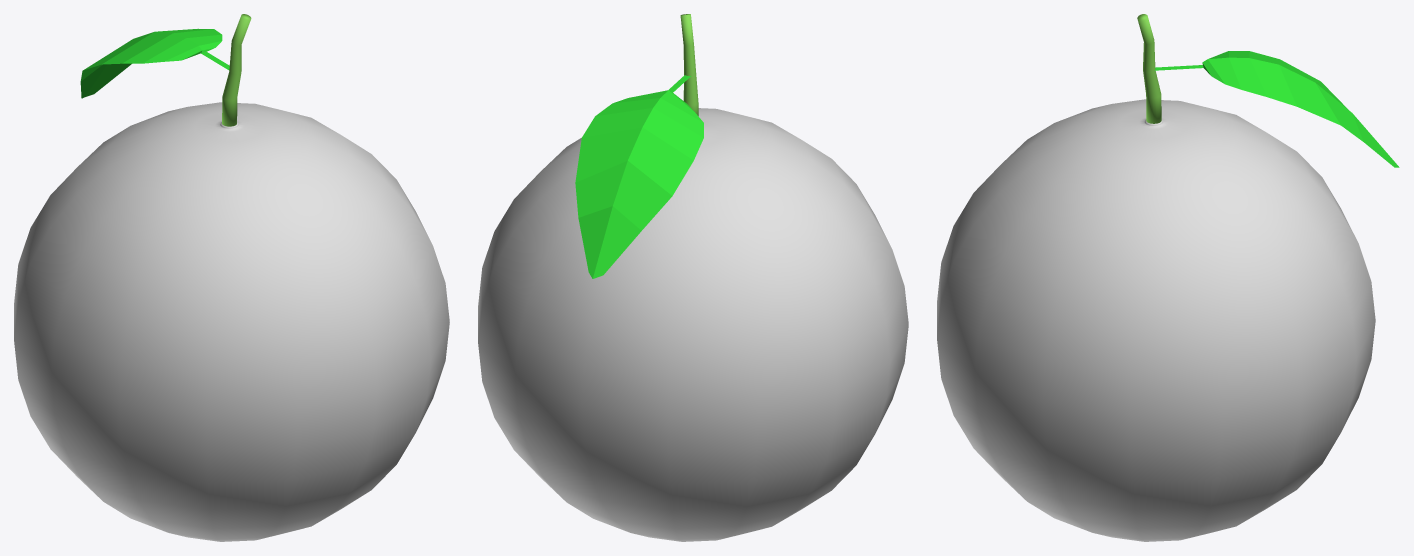
The model's file is calamansi.fbx.
The picture shows the model from 3 angles, left to right: view 1: azimuth 30°, elevation 25°; view 2: azimuth 150°, elevation 25°; view 3: azimuth 270°, elevation 25°; orthographic projection.
Parts seen in each view (by area): view 1: Sphere, Plane.003; view 2: Sphere, Plane.003; view 3: Sphere, Plane.003.
Boxes of the visible parts, x1,y1,x2,y2 form: Sphere: [14, 14, 449, 541]; Plane.003: [80, 28, 229, 98]; Sphere: [478, 14, 908, 541]; Plane.003: [575, 75, 703, 278]; Sphere: [937, 14, 1375, 541]; Plane.003: [1155, 51, 1399, 167].
Size of the model in its own units: 199 by 254 by 209.
